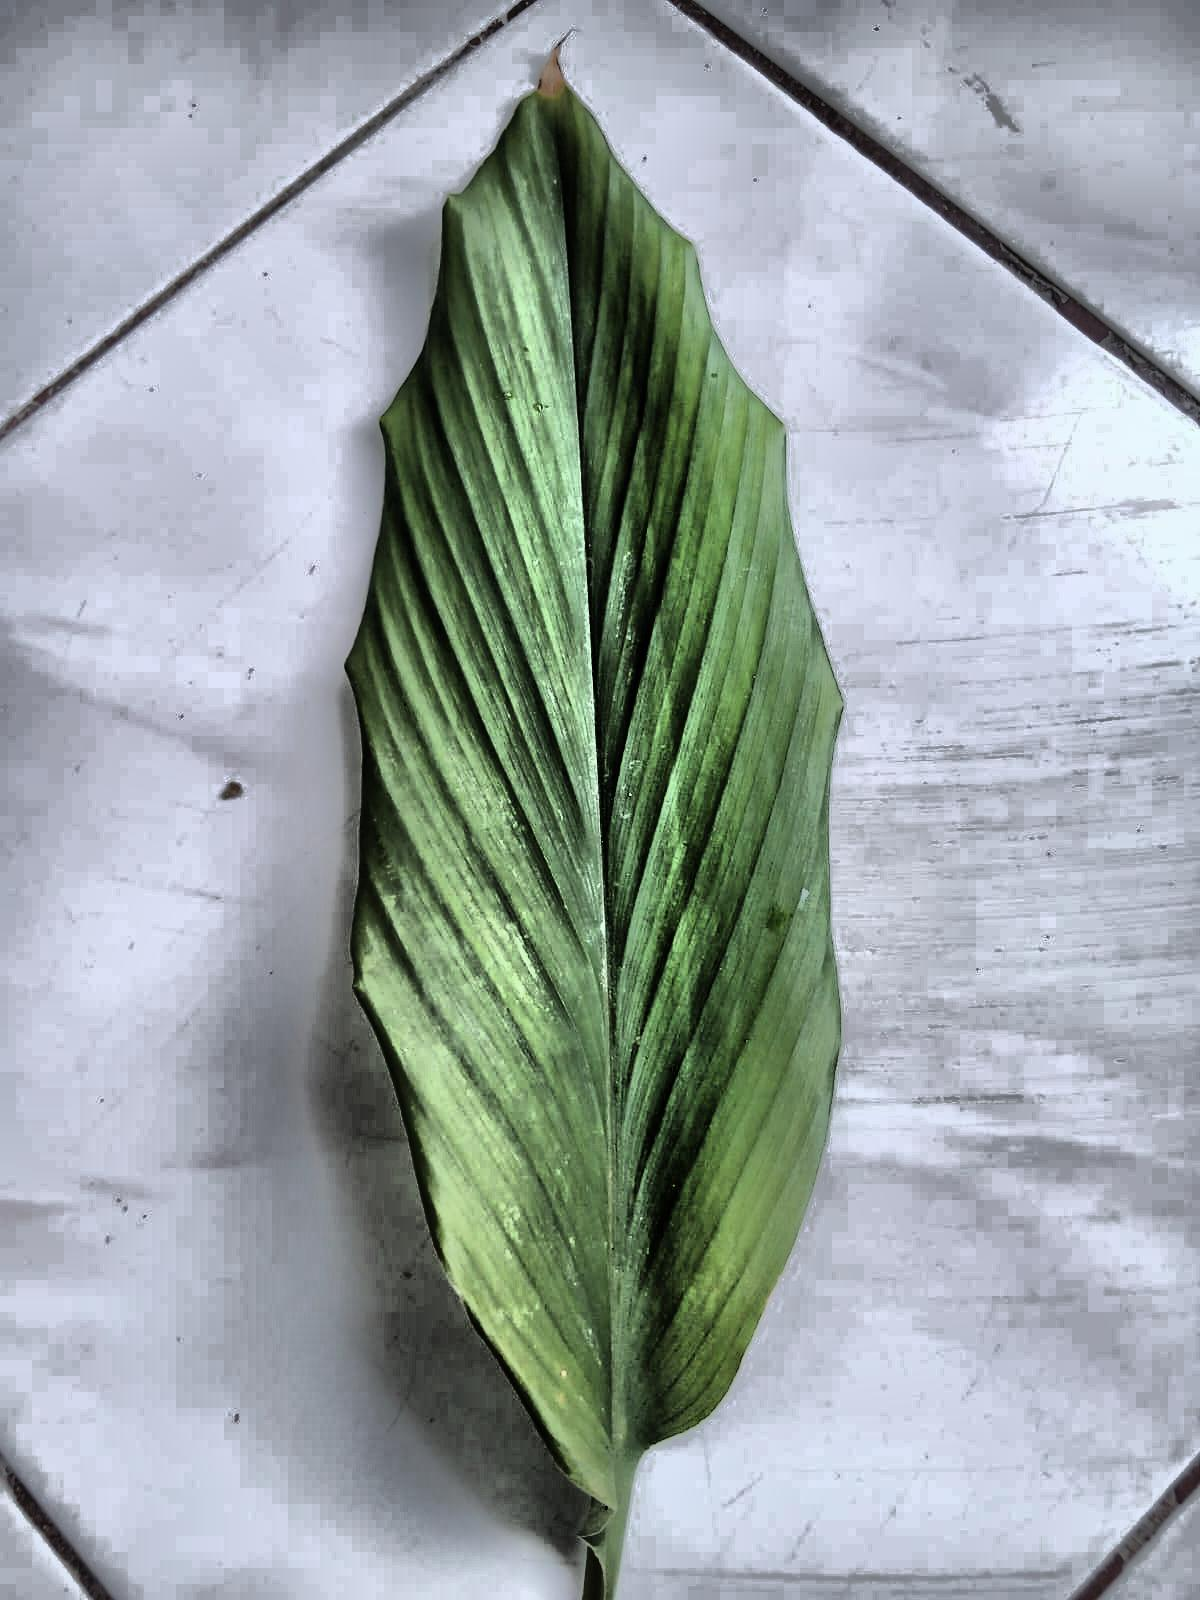daun kunyit: (347, 62, 841, 1599)
